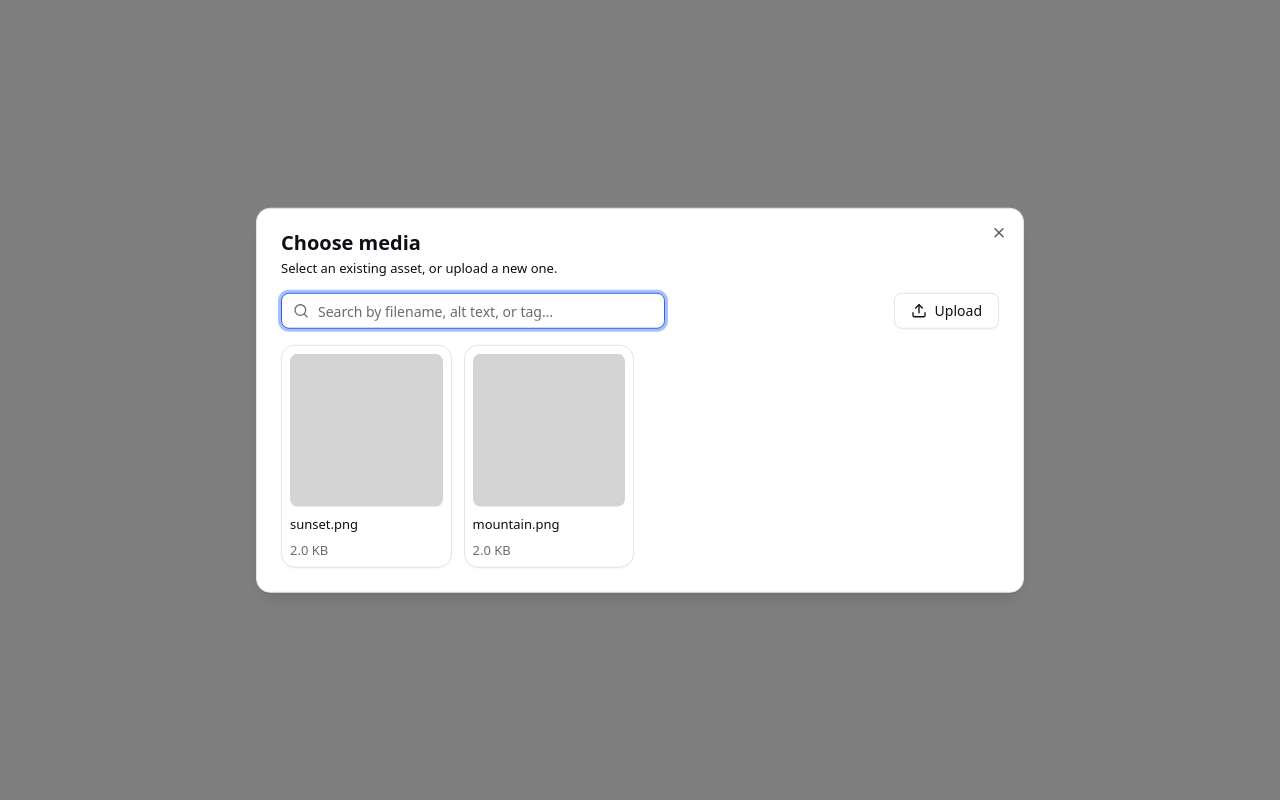
Test case: MediaPicker › filters items by the search box
Expected: the text "sunset.png" is shown, x1=290 y1=514 x2=358 y2=532
Type "sunset" into the search field named "search media". click: (473, 311)
box: x1=281 y1=293 x2=665 y2=329
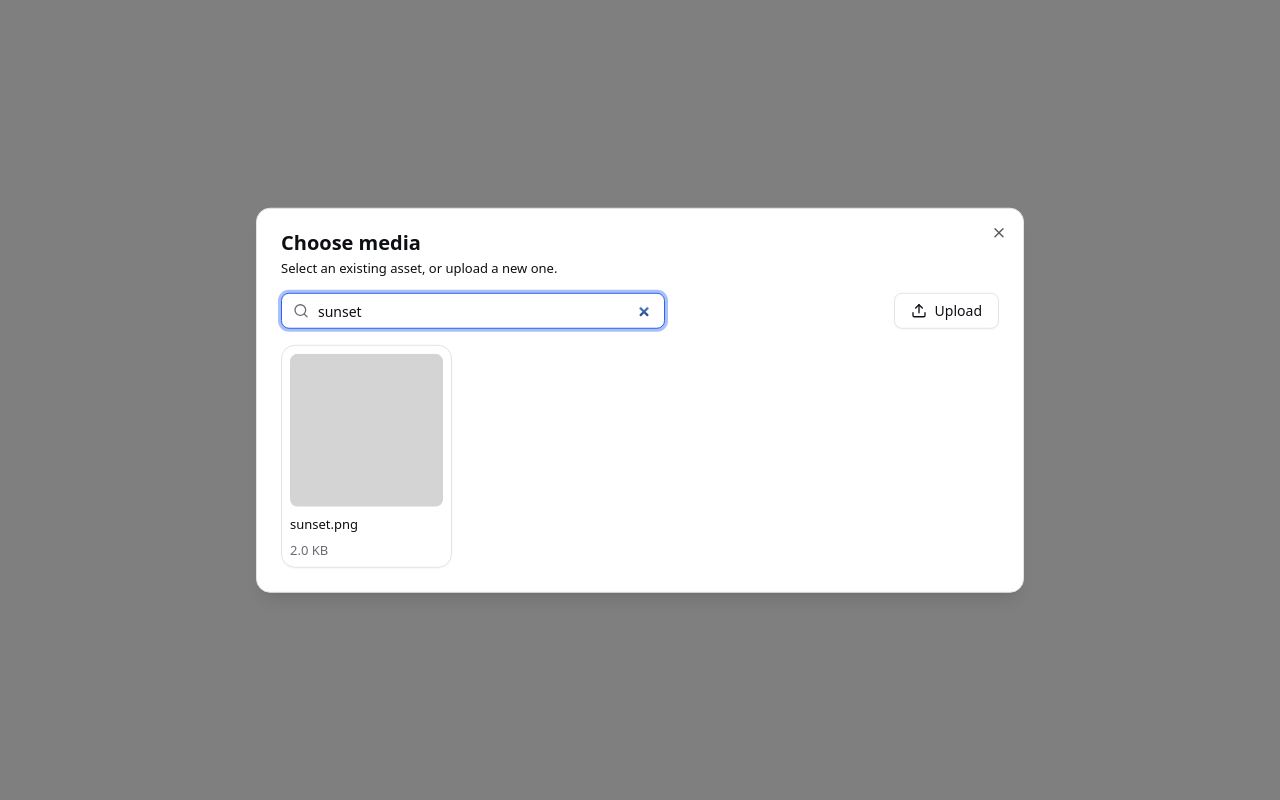
Expected: the text "sunset.png" is shown, x1=290 y1=514 x2=358 y2=532
Expected: the text "mountain.png" is gone
